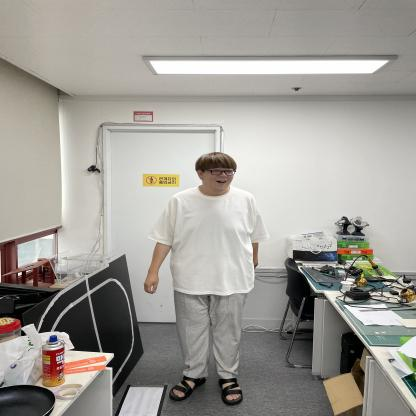normal: (150, 150, 262, 407)
